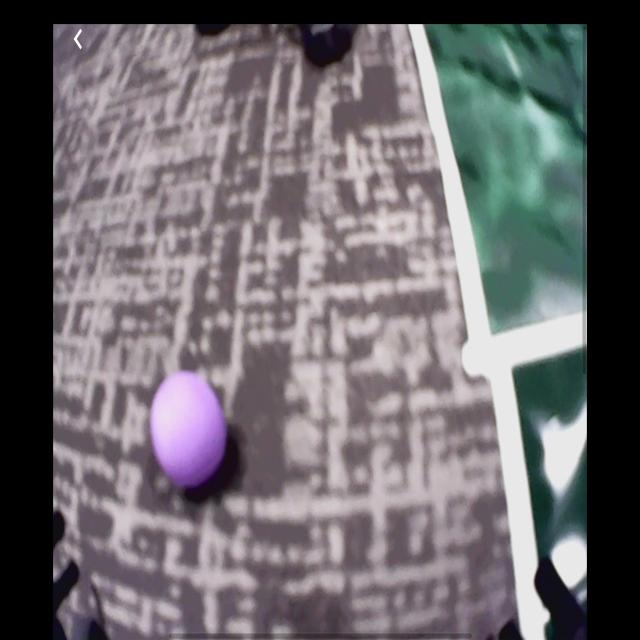ball: (150, 373, 229, 488)
